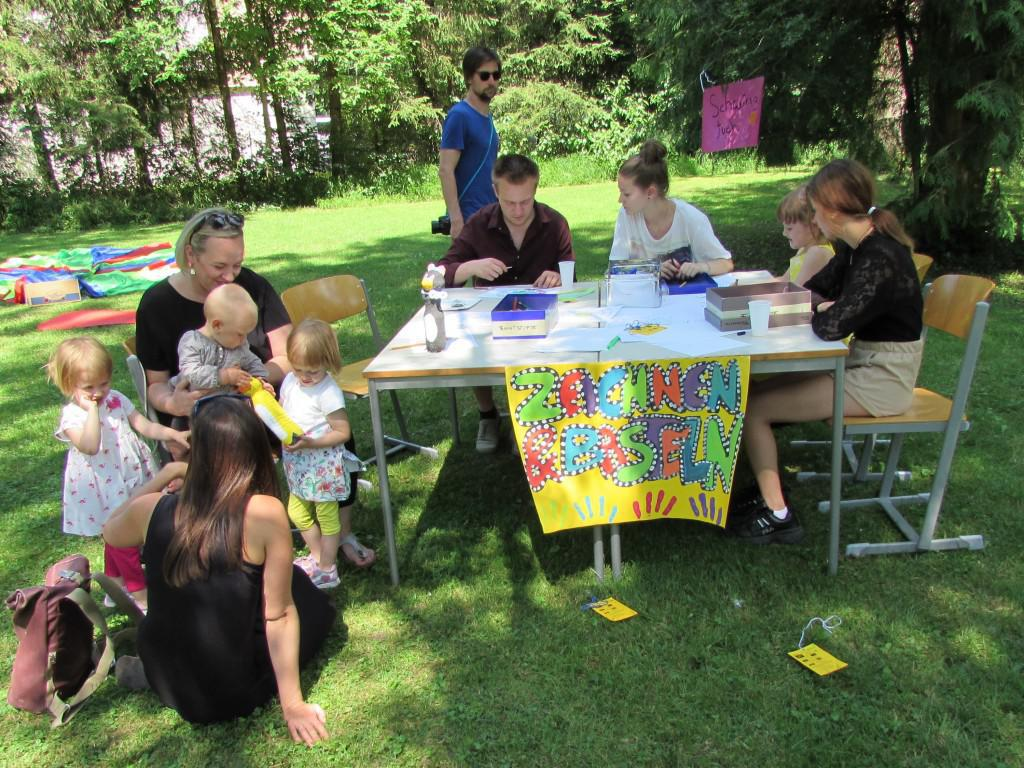child: (25, 335, 176, 568), (262, 317, 363, 581), (171, 279, 264, 390)
